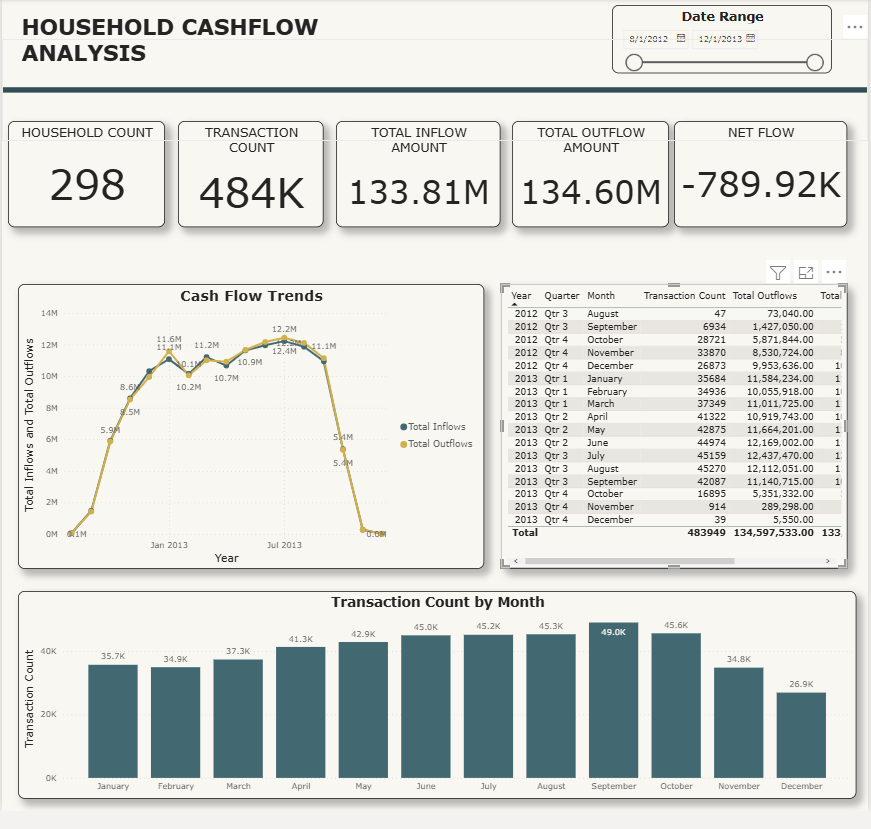

The page's visual inventory and layout, read from the dashboard file:
{"tool":"powerbi","page":{"name":"Page 1","canvas":[1280,1200],"ordinal":0},"visuals":[{"type":"card","title":"TOTAL INFLOW AMOUNT","fields":{"Values":["Sum(mart_household_monthly_cashflow.total_inflows_kes)"]},"box":[493.8,180.4,243.3,156.7],"z":0},{"type":"card","title":"TOTAL OUTFLOW AMOUNT","fields":{"Values":["Sum(mart_household_monthly_cashflow.total_outflows_kes)"]},"box":[753.6,180.4,232,156.7],"z":1000},{"type":"card","title":"HOUSEHOLD COUNT","fields":{"Values":["Count(mart_household_monthly_cashflow.hh_ids)"]},"box":[9.3,180.4,232,156.7],"z":2000},{"type":"card","title":"NET FLOW","fields":{"Values":["mart_household_monthly_cashflow.Net Cash Flow"]},"box":[993.8,180.4,255.7,156.7],"z":3000},{"type":"lineChart","title":"Cash Flow Trends ","fields":{"Y":["Sum(mart_household_monthly_cashflow.total_inflows_kes)","Sum(mart_household_monthly_cashflow.total_outflows_kes)"],"Category":["Calendar.Date.Variation.Date Hierarchy.Year","Calendar.Date.Variation.Date Hierarchy.Quarter","Calendar.Date.Variation.Date Hierarchy.Month","Calendar.Date.Variation.Date Hierarchy.Day"]},"box":[23.7,420.6,688.7,420.6],"z":4000},{"type":"tableEx","fields":{"Values":["Calendar.Date.Variation.Date Hierarchy.Year","Calendar.Date.Variation.Date Hierarchy.Quarter","Calendar.Date.Variation.Date Hierarchy.Month","Sum(mart_household_monthly_cashflow.transaction_count)","Sum(mart_household_monthly_cashflow.total_outflows_kes)","Sum(mart_household_monthly_cashflow.total_inflows_kes)","mart_household_monthly_cashflow.Net Cash Flow"]},"box":[737.1,420.6,512.4,420.6],"z":5000},{"type":"slicer","title":"Date Range","fields":{"Values":["mart_household_monthly_cashflow.month_start"]},"box":[902.1,9.3,324.7,101],"z":6000},{"type":"columnChart","title":"Transaction Count by Month","fields":{"Category":["Calendar.Date.Variation.Date Hierarchy.Month"],"Y":["Sum(mart_household_monthly_cashflow.transaction_count)"]},"box":[23.7,874.2,1239.2,307.2],"z":7000},{"type":"textbox","box":[23.7,16.5,635.1,102.1],"z":8000},{"type":"card","title":"TRANSACTION COUNT","fields":{"Values":["Sum(mart_household_monthly_cashflow.transaction_count)"]},"box":[259.8,180.4,215.5,156.7],"z":9000},{"type":"shape","box":[0,59.8,1280.4,150.5],"z":10000}]}

Visuals, with their boxes in screenshot pixels (x1, y1, x2, y2), scaled from the page's 1280x1200 canvas onto the 871x829 screenshot:
"TOTAL INFLOW AMOUNT" card: box=[336, 125, 502, 233]
"TOTAL OUTFLOW AMOUNT" card: box=[513, 125, 671, 233]
"HOUSEHOLD COUNT" card: box=[6, 125, 164, 233]
"NET FLOW" card: box=[676, 125, 850, 233]
"Cash Flow Trends " lineChart: box=[16, 291, 485, 581]
tableEx - Calendar.Date.Variation.Date Hierarchy.Year x Calendar.Date.Variation.Date Hierarchy.Quarter: box=[502, 291, 850, 581]
"Date Range" slicer: box=[614, 6, 835, 76]
"Transaction Count by Month" columnChart: box=[16, 604, 859, 816]
textbox: box=[16, 11, 448, 82]
"TRANSACTION COUNT" card: box=[177, 125, 323, 233]
shape: box=[0, 41, 870, 145]
